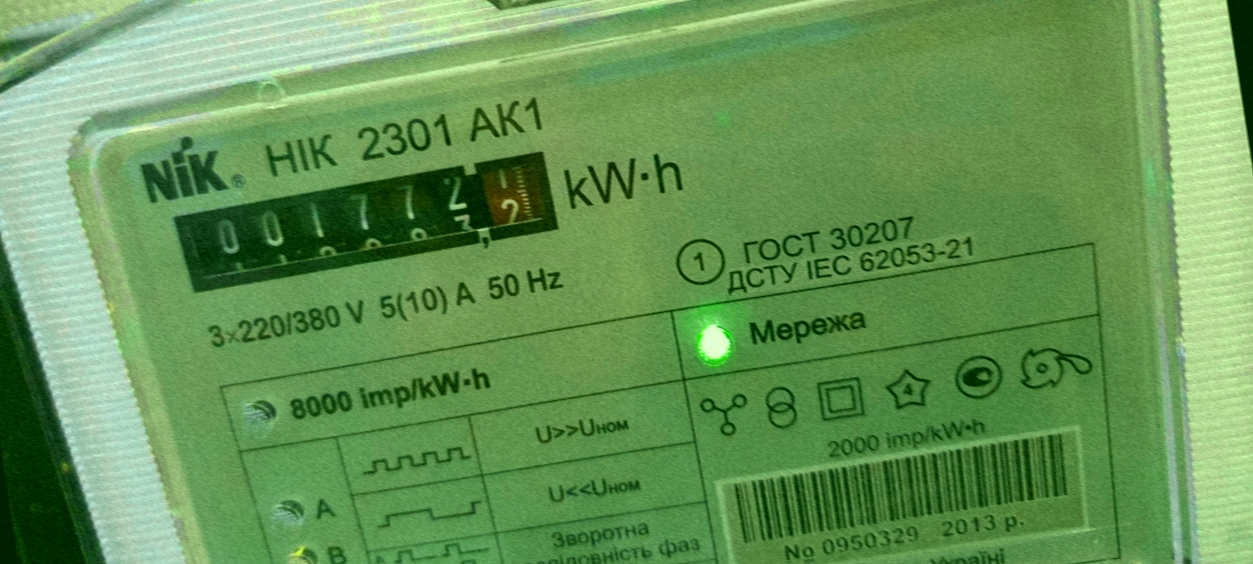0: (211, 214, 244, 258), (258, 207, 286, 249)
1: (306, 199, 328, 240), (495, 166, 511, 193)
2: (441, 174, 470, 214), (496, 195, 523, 227)
3: (452, 212, 476, 236)
7: (348, 190, 376, 234), (393, 182, 420, 224)
screen: (160, 138, 579, 307)
